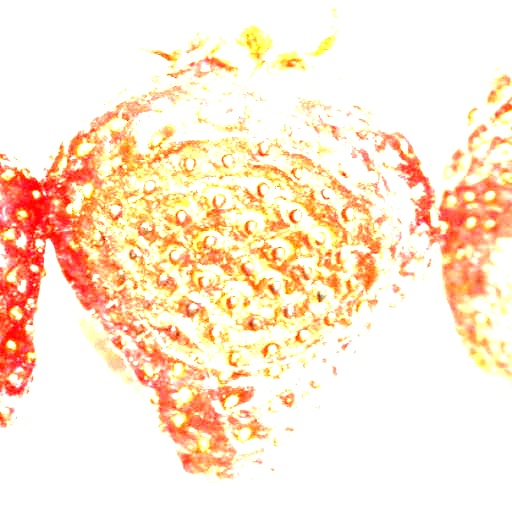Anthracnose Fruit Rot: (55, 115, 400, 377)
